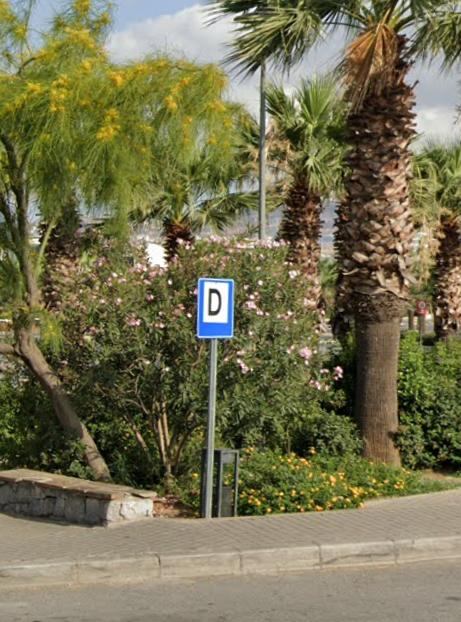station: (201, 280, 229, 326)
